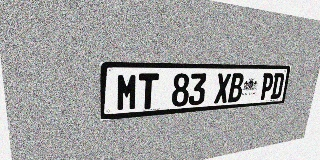3: (188, 73, 207, 106)
8: (171, 73, 191, 107)
B: (228, 73, 244, 103)
D: (270, 73, 285, 99)
M: (116, 73, 138, 111)
P: (259, 73, 274, 100)
T: (138, 73, 159, 110)
X: (214, 73, 231, 104)
